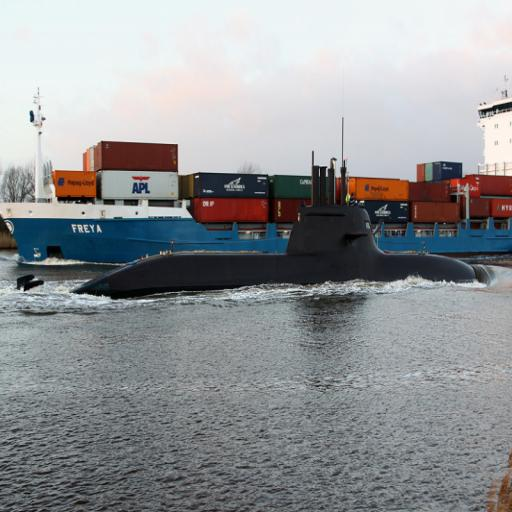submarine: (65, 115, 501, 302)
